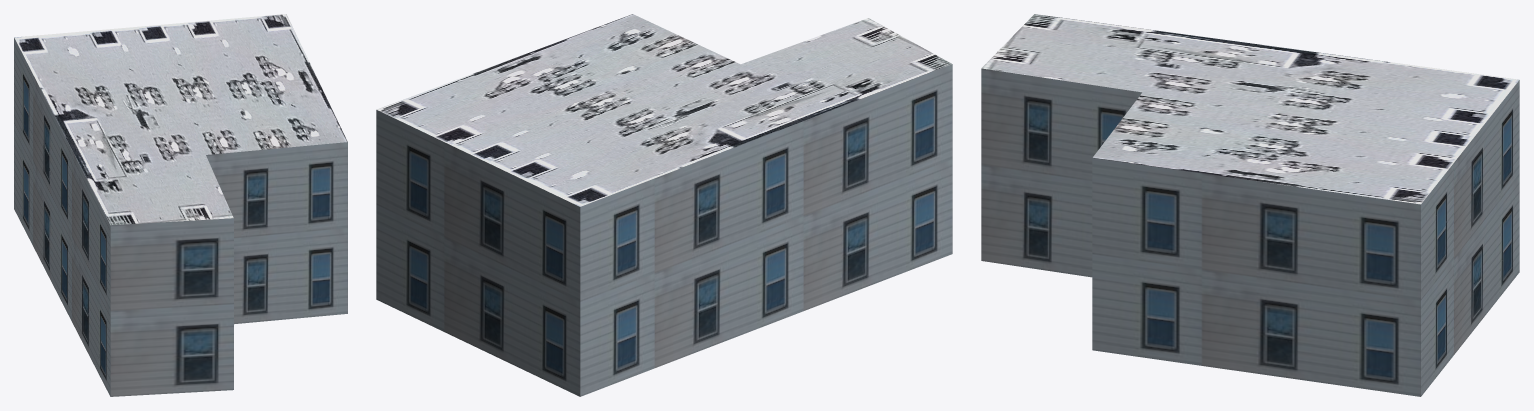
The model's file is ResTex__4188.fbx.
The picture shows the model from 3 angles, left to right: view 1: azimuth 30°, elevation 25°; view 2: azimuth 150°, elevation 25°; view 3: azimuth 270°, elevation 25°; orthographic projection. The views are drawn at different scales.
Parts seen in each view (by area): view 1: CityEngineMaterial_18_m, CityEngineMaterial_8_m; view 2: CityEngineMaterial_18_m, CityEngineMaterial_8_m; view 3: CityEngineMaterial_18_m, CityEngineMaterial_8_m.
Part boxes in pixels (x1,y1,x2,y2): CityEngineMaterial_18_m: (14, 38, 347, 396); CityEngineMaterial_8_m: (14, 14, 347, 225); CityEngineMaterial_18_m: (376, 64, 952, 396); CityEngineMaterial_8_m: (377, 14, 951, 206); CityEngineMaterial_18_m: (981, 68, 1519, 396); CityEngineMaterial_8_m: (981, 14, 1519, 204).
Bounding box in the file's own units: 12.74 × 6 × 15.22.
2 materials, 2 textured.
